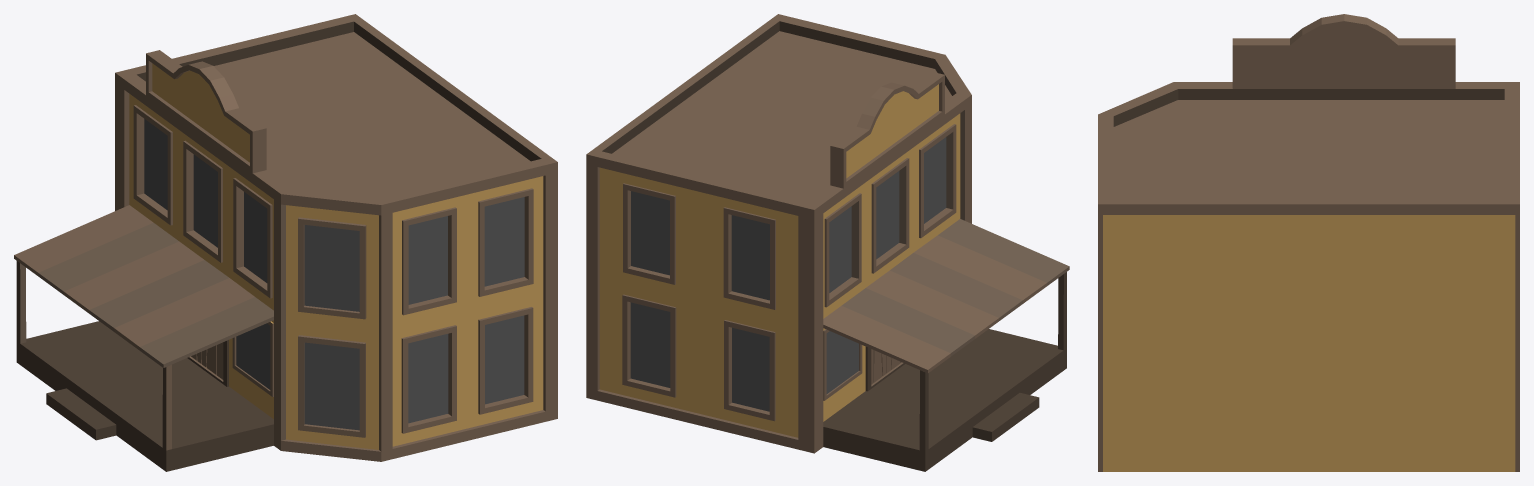
File: building.fbx
3 renders of one model, left to right at view 1: azimuth 30°, elevation 25°; view 2: azimuth 150°, elevation 25°; view 3: azimuth 270°, elevation 25°, orthographic. The views are drawn at different scales.
Parts seen in each view (by area): view 1: building; view 2: building; view 3: building.
Boxes of the visible parts, box(x1,y1,x2,y2) form: building: box(14, 14, 557, 471); building: box(586, 14, 1069, 471); building: box(1098, 14, 1519, 471).
Size of the model in its own units: 11.46 by 10.9 by 9.57.
